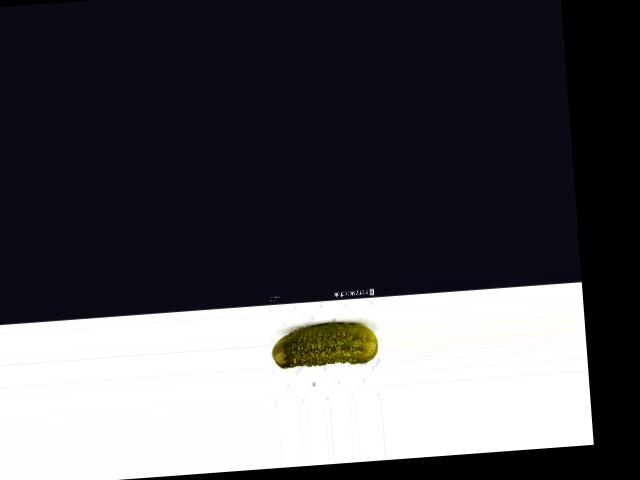cucumber: (269, 319, 378, 370)
